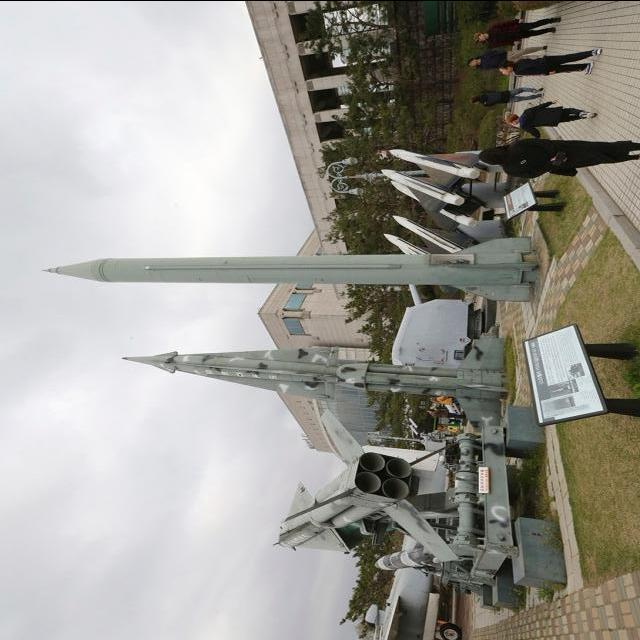Missile: (39, 244, 536, 292)
